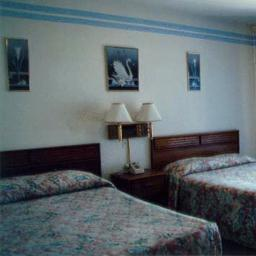Cama: (3, 174, 219, 249), (181, 149, 254, 243)
